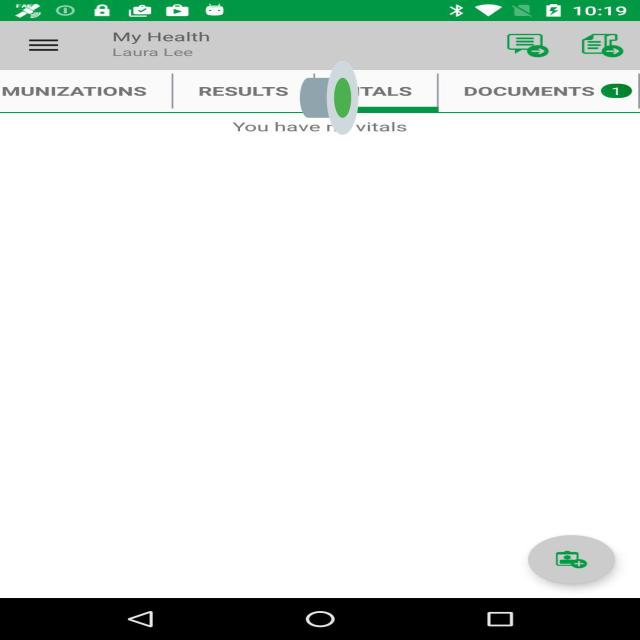social proof: (300, 30, 358, 166)
